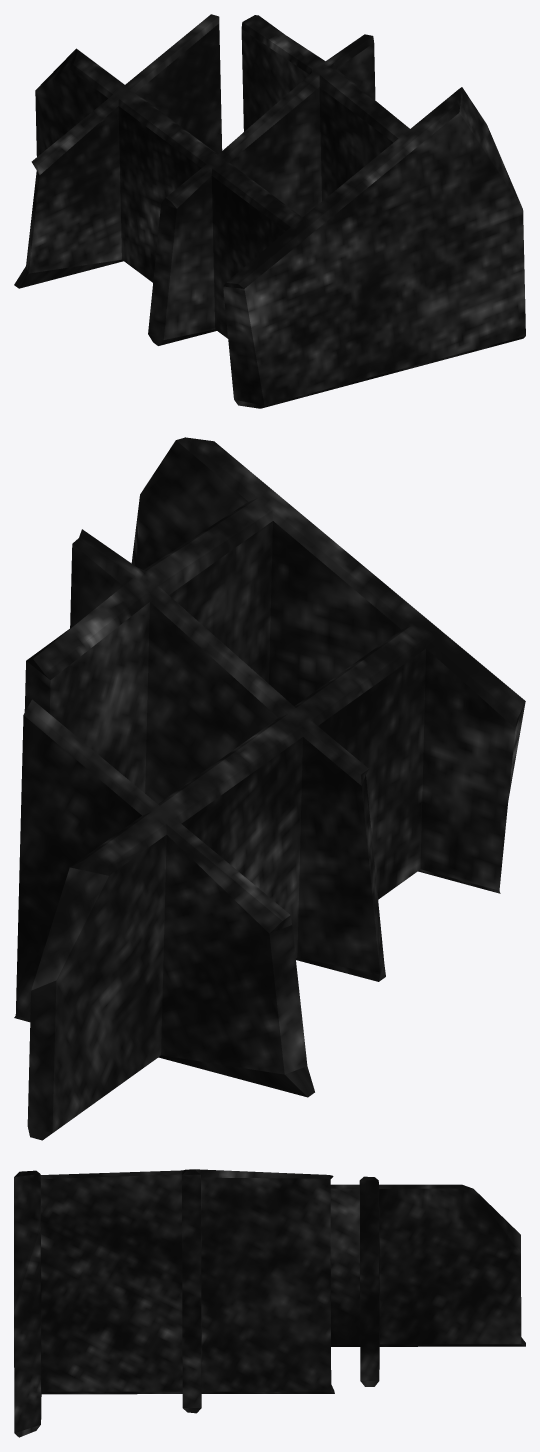
The model's file is SM_Bricks_Brick_10.fbx.
The picture shows the model from 3 angles, top to bottom: view 1: azimuth 30°, elevation 25°; view 2: azimuth 150°, elevation 25°; view 3: azimuth 270°, elevation 25°; orthographic projection. The views are drawn at different scales.
Visible parts, largest first — view 1: SM_Bricks_Brick_10; view 2: SM_Bricks_Brick_10; view 3: SM_Bricks_Brick_10.
Part boxes in pixels (x1,y1,x2,y2): SM_Bricks_Brick_10: (14, 14, 525, 408); SM_Bricks_Brick_10: (14, 437, 525, 1140); SM_Bricks_Brick_10: (14, 1169, 525, 1437).
Size of the model in its own units: 20.18 by 29.67 by 15.9.
1 material, 1 textured.
